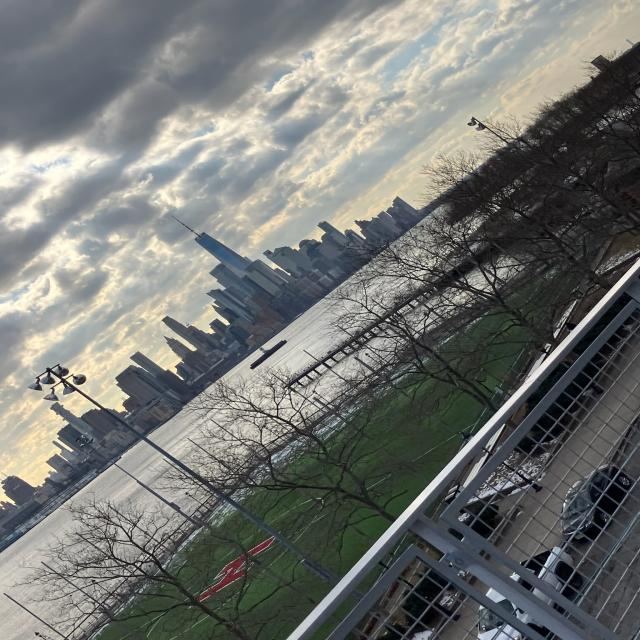WTC: (165, 210, 256, 278)
